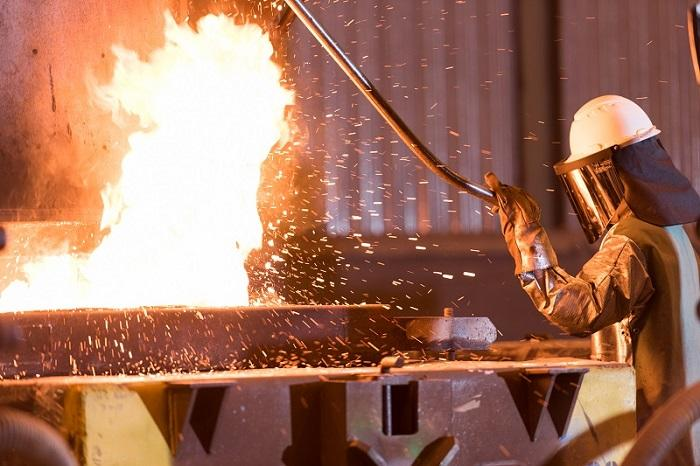helmet: (558, 96, 662, 164)
